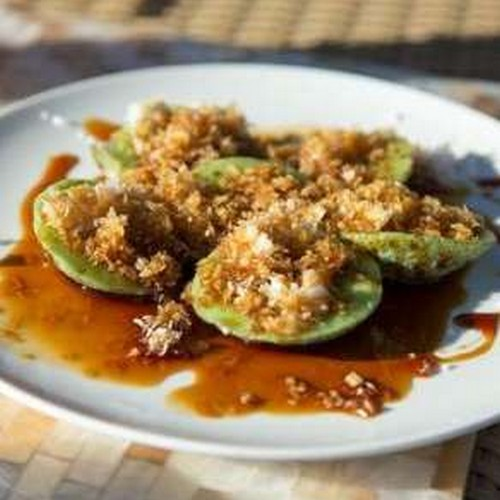laklak: (37, 100, 478, 362)
